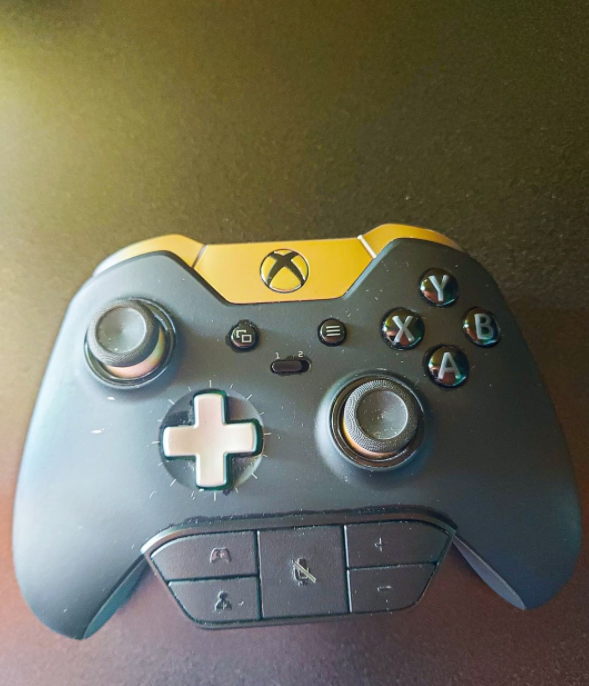gamingconsole: (20, 229, 577, 633)
